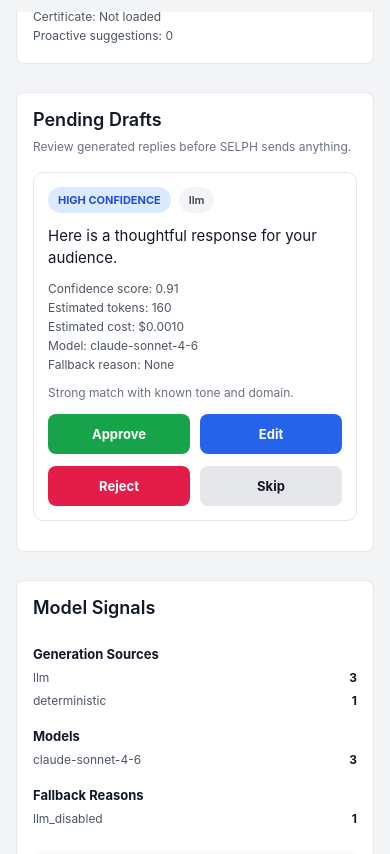
Dashboard screen (mobile) › approves a draft and refreshes the queue
The width and height of the screenshot is (390, 854).
(page scrolled)
Click the text "Approve" at (119, 434), box [92,426,146,442]
(page scrolled)
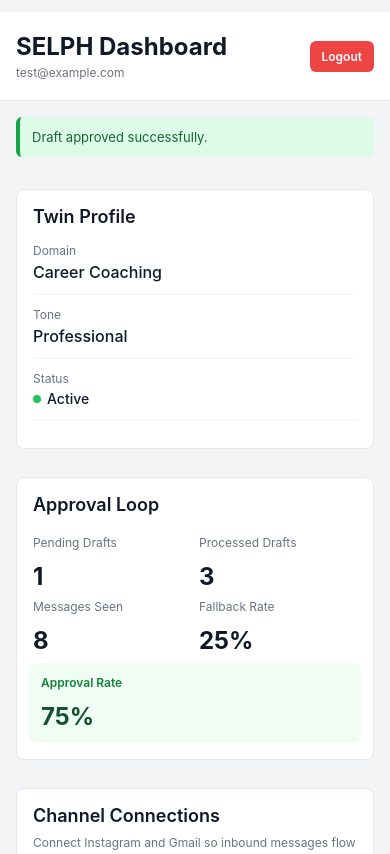
expect the text "Draft approved successfully." is shown: met, box [32,129,208,145]
